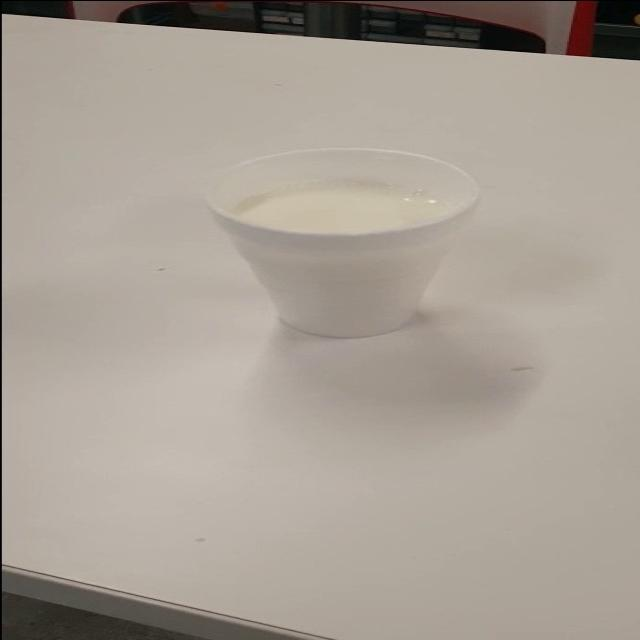Milk: (177, 135, 535, 367)
